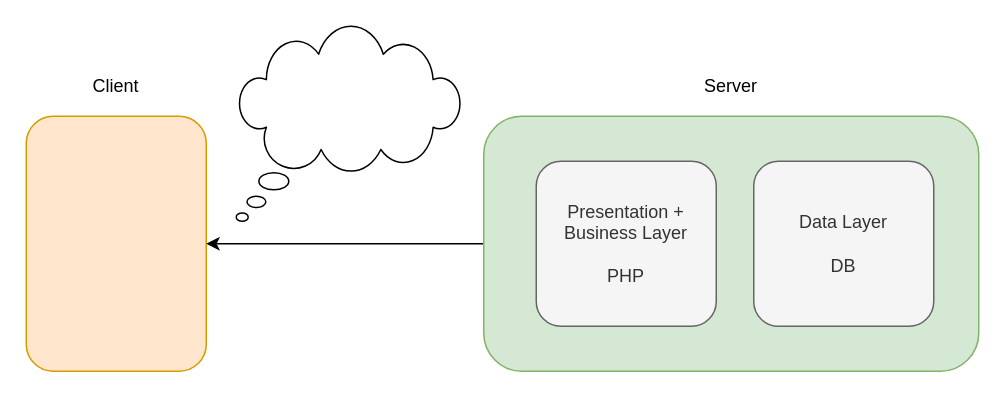
The diagram is 1005 pixels wide and 398 high, and some of its shapes have lost their labels. The centre of each missing label's shape, as x and y in pixels:
"HTML, CSS, JS, JSON, XML, ..." belongs at (x=348, y=123).
"Presentation Layer Browser" belongs at (x=115, y=243).
